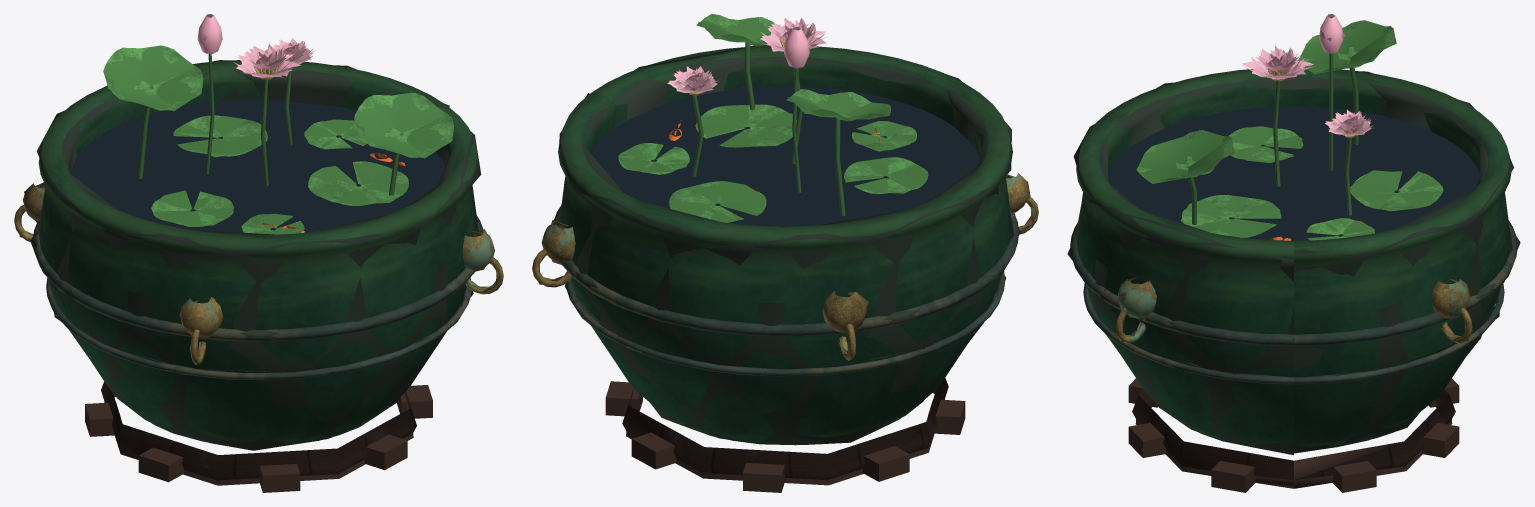
The model's file is prop_lotus_vat.gltf.
3 views of the same model, side by side, from view 1: azimuth 30°, elevation 25°; view 2: azimuth 150°, elevation 25°; view 3: azimuth 270°, elevation 25° (orthographic). The views are drawn at different scales.
Visible parts, largest first — view 1: Near, Far; view 2: Near, Far; view 3: Near, Far.
Part boxes in pixels (x1=…): Near: x1=14, y1=14, x2=503, y2=480; Far: x1=19, y1=16, x2=499, y2=492; Near: x1=532, y1=14, x2=1038, y2=480; Far: x1=538, y1=17, x2=1036, y2=492; Near: x1=1070, y1=14, x2=1517, y2=480; Far: x1=1067, y1=20, x2=1520, y2=492.
Size of the model in its own units: 1.45 by 1.4 by 1.46.
Materials: 11 (5 with a texture image).
